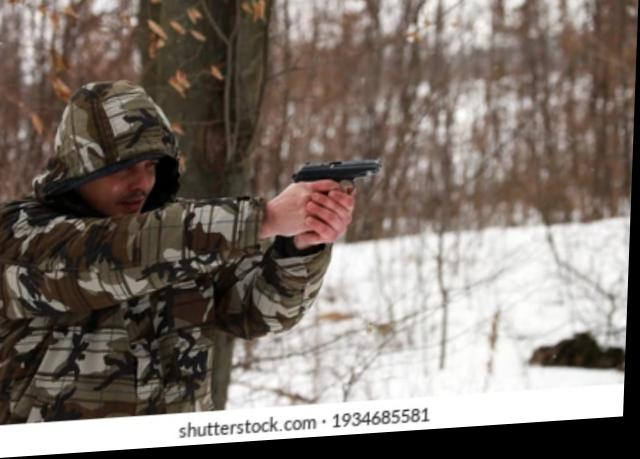other: (0, 79, 267, 421)
